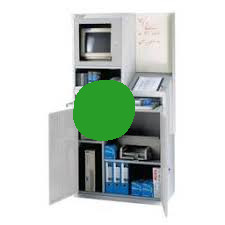focus: (70, 78, 137, 143)
